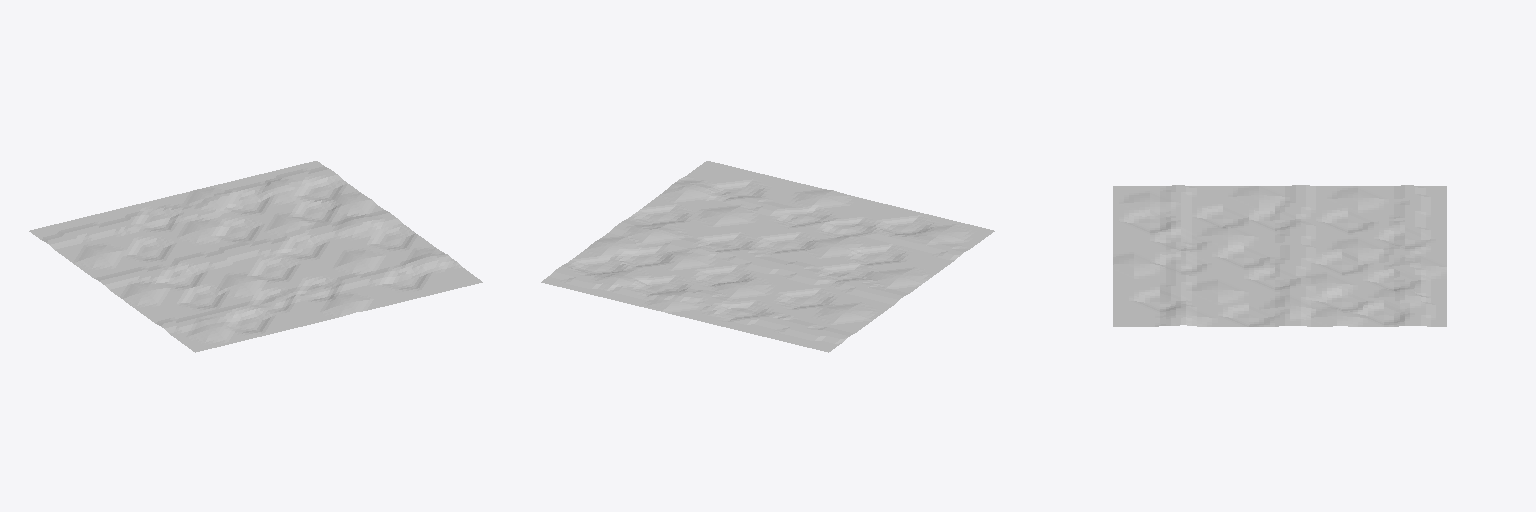
Rendered from lake7.obj.
3 renders of one model, left to right at view 1: azimuth 30°, elevation 25°; view 2: azimuth 150°, elevation 25°; view 3: azimuth 270°, elevation 25°, orthographic.
Visible parts, largest first — view 1: lake.007; view 2: lake.007; view 3: lake.007.
Boxes of the visible parts, box(x1,y1,x2,y2) form: lake.007: box(29, 161, 482, 352); lake.007: box(541, 161, 994, 352); lake.007: box(1113, 185, 1446, 326).
Size of the model in its own units: 332 by 5.76 by 332.